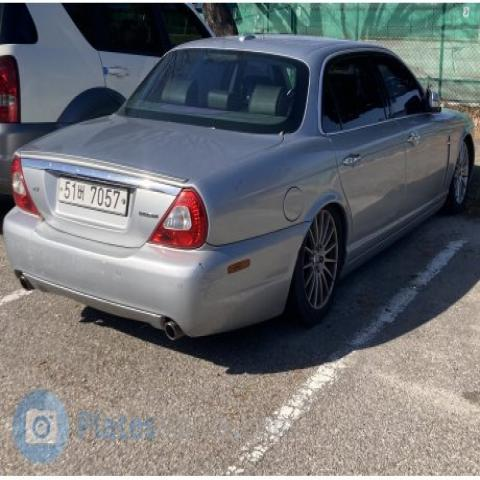LP: (54, 169, 135, 220)
